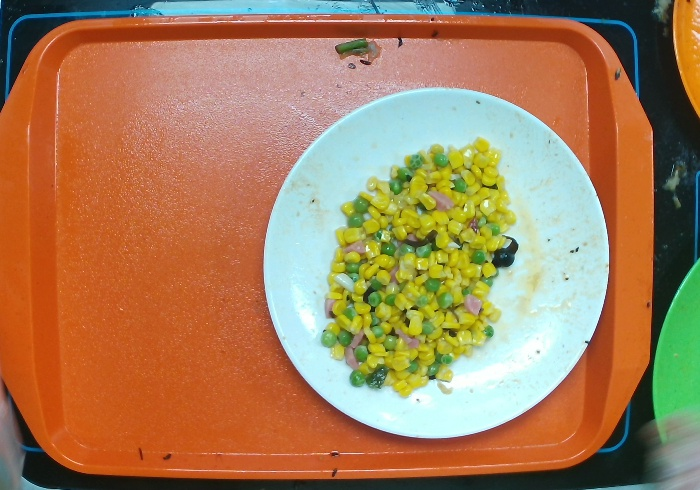HZYJPL-Bai_Se_Yuan_Pan: (260, 85, 611, 440)
